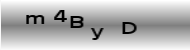4: (51, 8, 68, 23)
B: (69, 15, 84, 29)
D: (121, 21, 137, 35)
m: (24, 13, 45, 25)
y: (89, 27, 103, 41)
